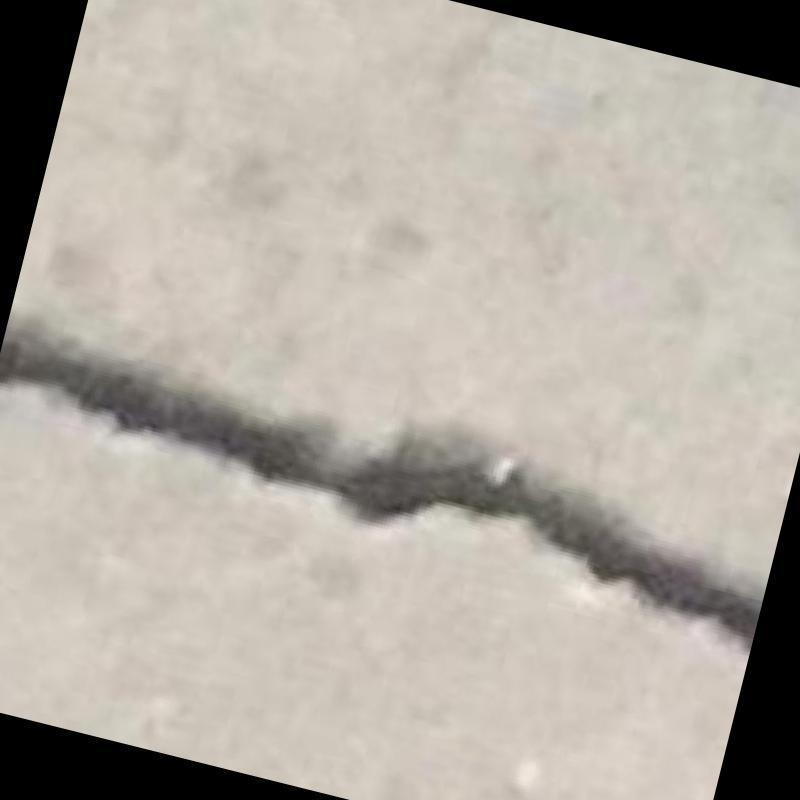pothole: (0, 324, 763, 648)
